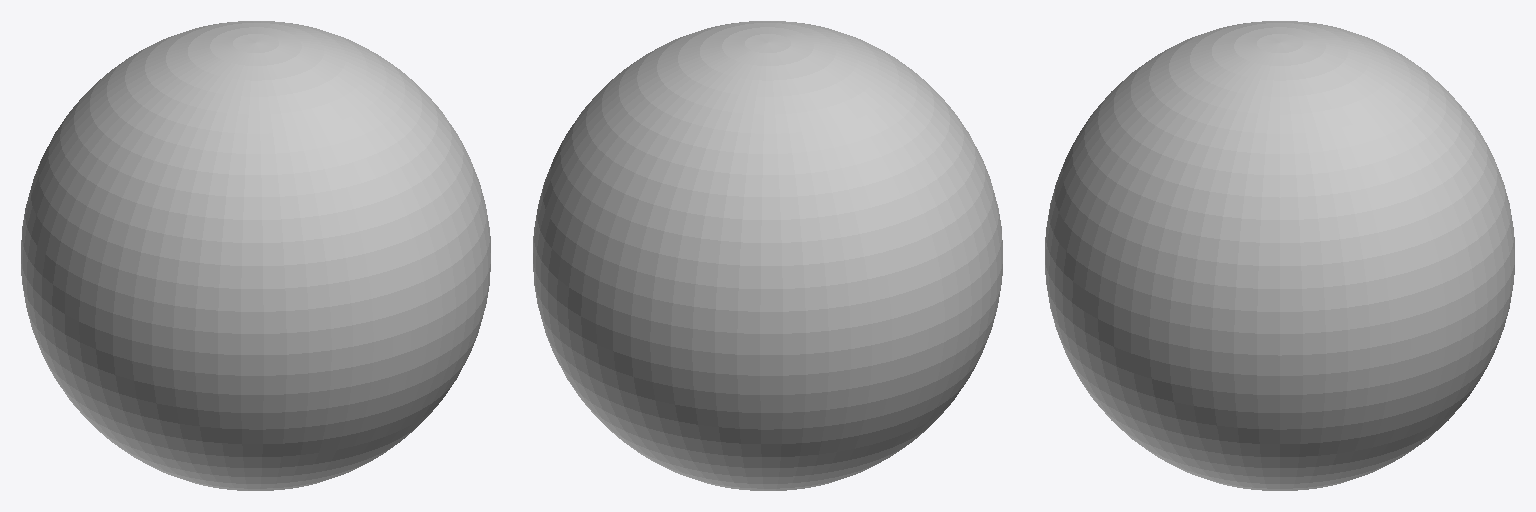
The model's file is mercury.obj.
The picture shows the model from 3 angles: view 1: azimuth 30°, elevation 25°; view 2: azimuth 150°, elevation 25°; view 3: azimuth 270°, elevation 25°; orthographic projection.
Parts seen in each view (by area): view 1: Sphere001.002; view 2: Sphere001.002; view 3: Sphere001.002.
Part boxes in pixels (x1,y1,x2,y2): Sphere001.002: (21, 21, 490, 490); Sphere001.002: (533, 21, 1002, 490); Sphere001.002: (1045, 21, 1514, 490).
Size of the model in its own units: 4 by 4 by 4.